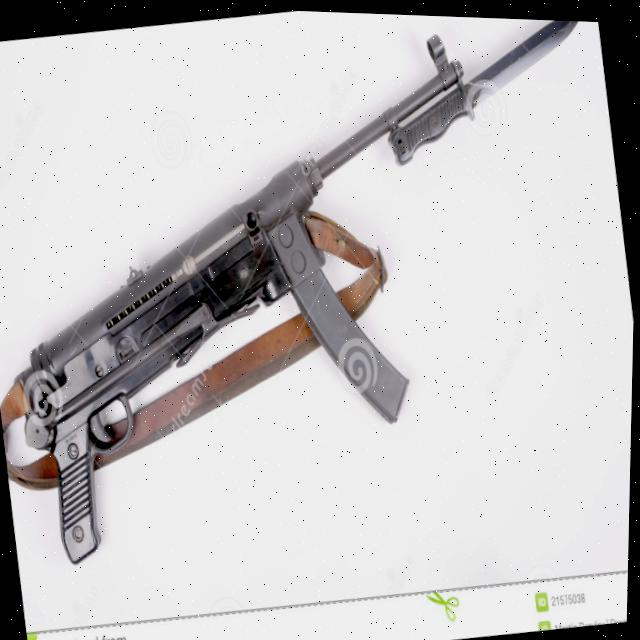firearm: (0, 11, 529, 584)
knife: (371, 11, 603, 172)
